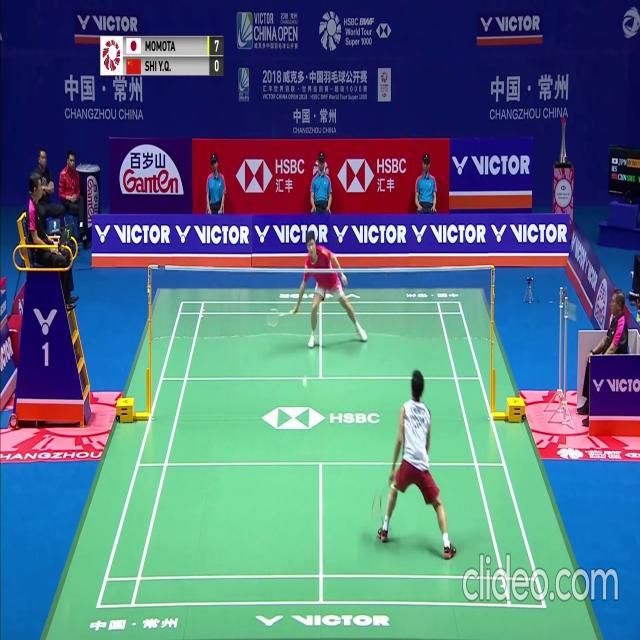Shuttlecock: (302, 377, 307, 385)
